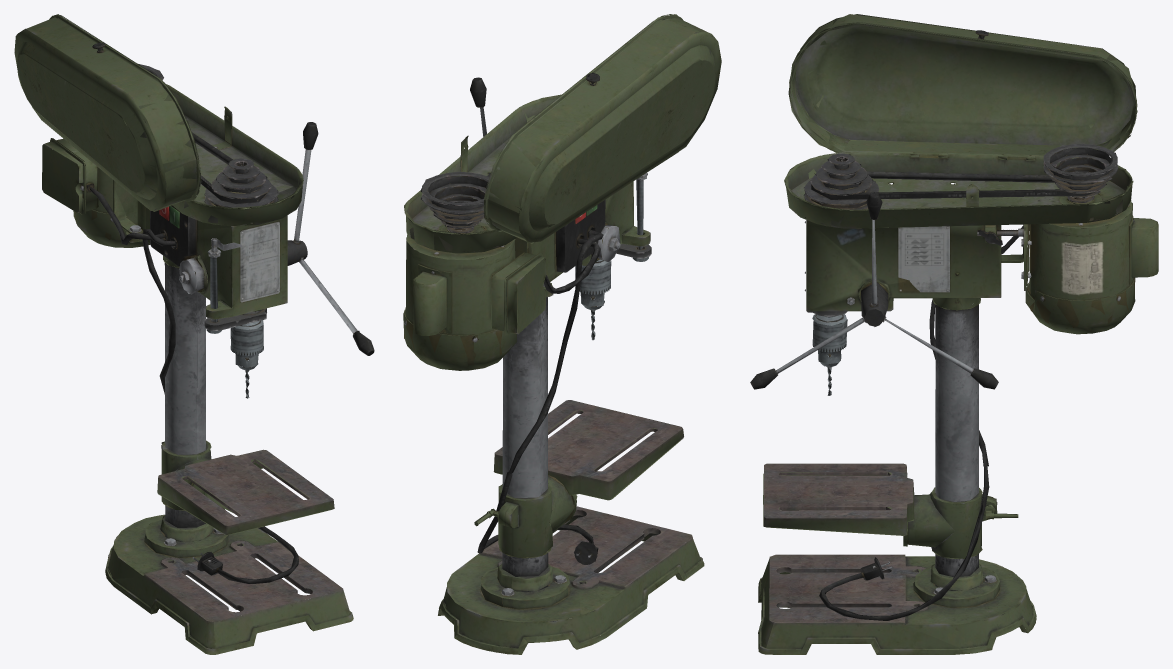
The model's file is drill_press_01.glb.
3 renders of one model, left to right at view 1: azimuth 30°, elevation 25°; view 2: azimuth 150°, elevation 25°; view 3: azimuth 270°, elevation 25°, orthographic. The views are drawn at different scales.
Parts seen in each view (by area): view 1: drill_press_01; view 2: drill_press_01; view 3: drill_press_01.
Part boxes in pixels (box(x1,y1,x2,y2)): drill_press_01: box(14, 14, 374, 654); drill_press_01: box(403, 14, 721, 654); drill_press_01: box(750, 14, 1158, 654).
Size of the model in its own units: 0.3546 by 0.902 by 0.5985.
1 material, 1 textured.
